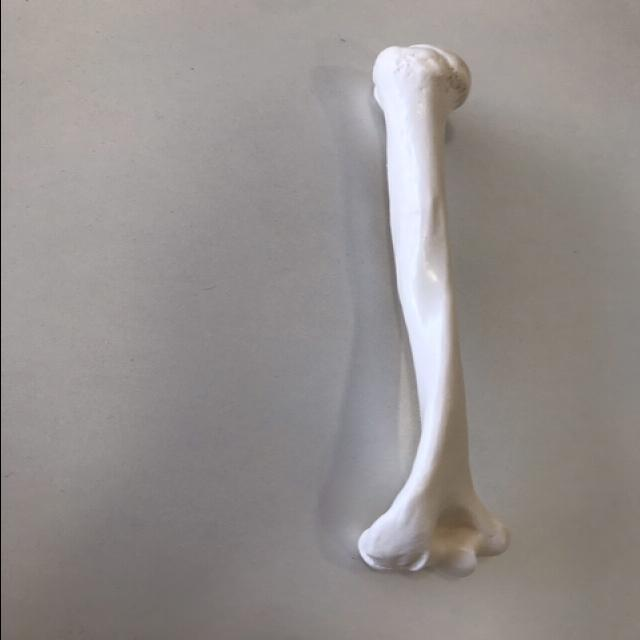bone: (355, 40, 520, 580)
